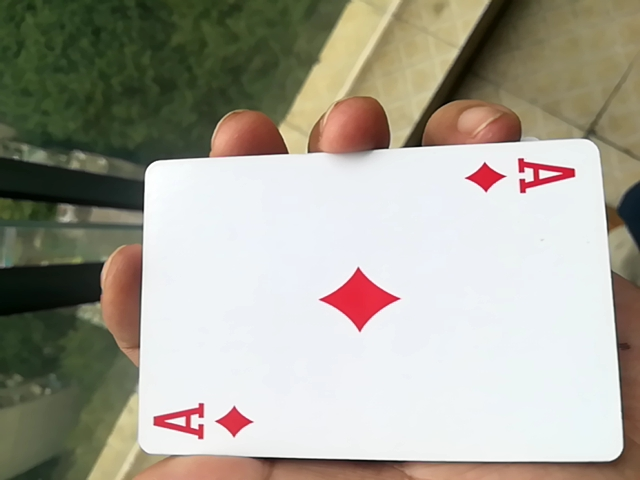fk a: (130, 145, 620, 477)
